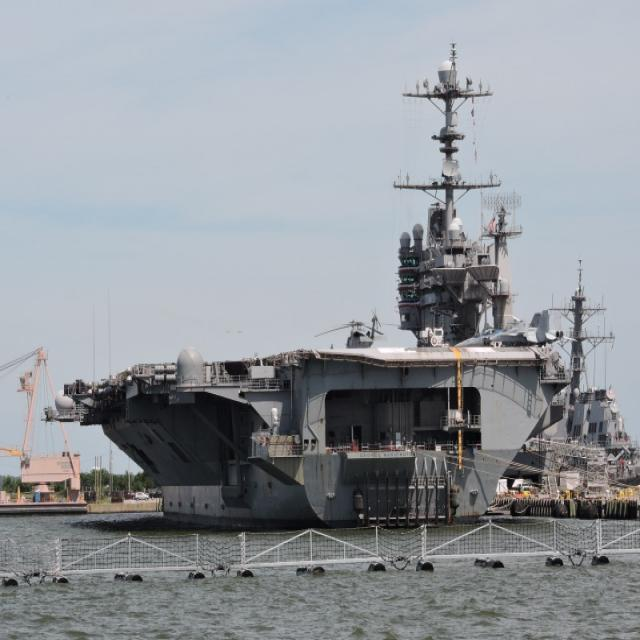Portanaves: (41, 36, 572, 531)
